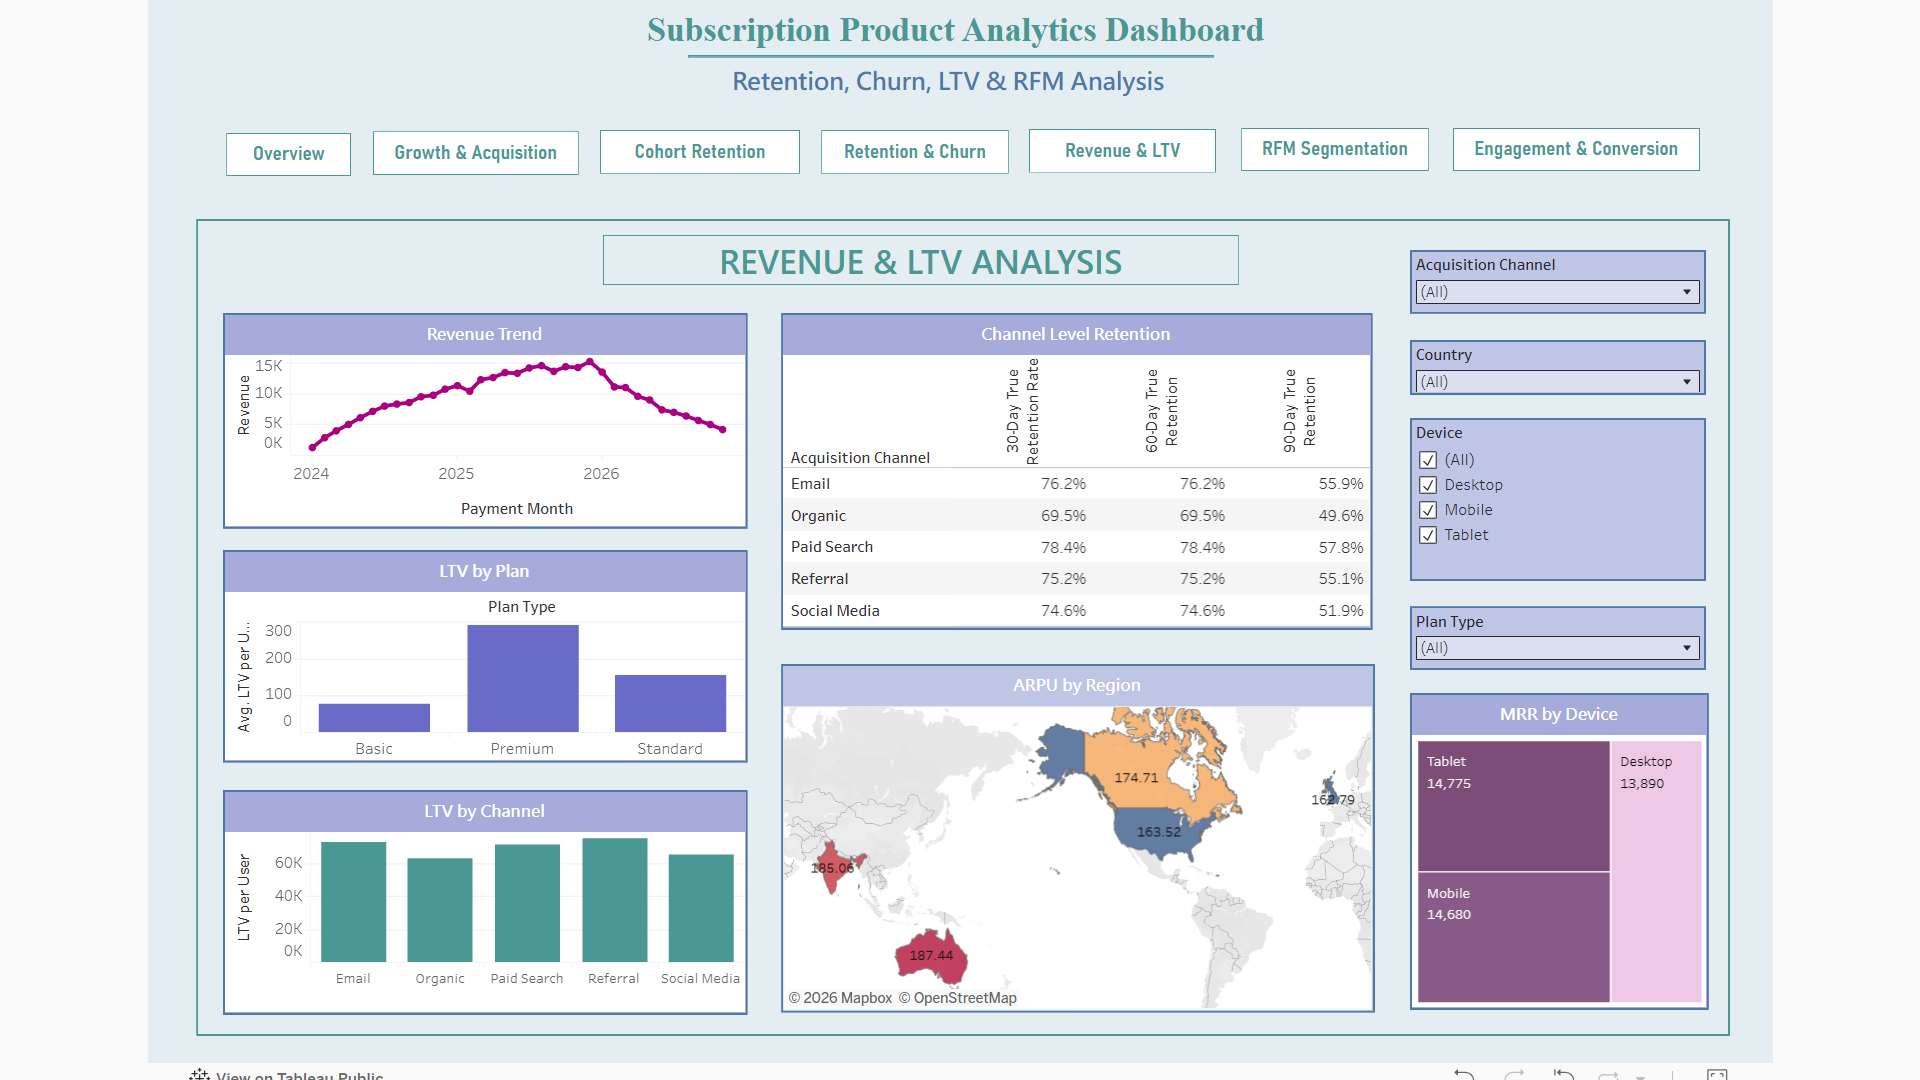

This screenshot's page, from the dashboard's own definition file:
{"tool":"tableau","page":{"name":"Revenue & LTV","canvas":[1300,850],"ordinal":6},"visuals":[{"type":"blank","box":[432,44,421,2]},{"type":"text","box":[347,50,587,28]},{"type":"blank","box":[56,99,1191,45]},{"type":"dashboard-object","box":[875,102,150,35]},{"type":"dashboard-object","box":[1044,102,198,35]},{"type":"dashboard-object","box":[705,103,150,35]},{"type":"dashboard-object","box":[362,104,160,35]},{"type":"dashboard-object","box":[539,104,150,35]},{"type":"dashboard-object","box":[180,105,165,35]},{"type":"dashboard-object","box":[63,106,100,35]},{"type":"blank","box":[39,175,1227,654]},{"type":"text","box":[364,188,509,40]},{"type":"filter","title":"LTV by Channel","param":"[federated.1vvcbkb1517lao19svhhh0a2soji].[none:Acquisition_Channel:nk]","box":[1010,200,237,51]},{"type":"worksheet","title":"Revenue Trend","mark":"Automatic","rows":["Revenue"],"cols":["Payment_Date"],"box":[60,250,420,173]},{"type":"worksheet","title":"Channel Level Retention","mark":"Automatic","rows":["Acquisition_Channel"],"box":[507,250,473,254]},{"type":"filter","title":"LTV by Channel","param":"[federated.1vvcbkb1517lao19svhhh0a2soji].[none:Country:nk]","box":[1010,272,237,44]},{"type":"filter","title":"LTV by Channel","param":"[federated.1vvcbkb1517lao19svhhh0a2soji].[none:Device:nk]","box":[1010,334,237,131]},{"type":"worksheet","title":"LTV by Plan","mark":"Automatic","rows":["Calculation_1112952098174984198"],"cols":["Plan_Type"],"box":[60,440,420,170]},{"type":"filter","title":"LTV by Channel","param":"[federated.1vvcbkb1517lao19svhhh0a2soji].[none:Plan_Type:nk]","box":[1010,485,237,51]},{"type":"worksheet","title":"ARPU by Region","mark":"Automatic","box":[507,531,475,279]},{"type":"worksheet","title":"MRR by Device","mark":"Automatic","box":[1010,554,239,254]},{"type":"worksheet","title":"LTV by Channel","mark":"Automatic","rows":["Calculation_1112952098174984198"],"cols":["Acquisition_Channel"],"box":[60,632,420,180]}]}

Visuals, with their boxes in screenshot pixels (x1, y1, x2, y2):
blank: select_region(681, 45, 1209, 48)
text: select_region(575, 53, 1310, 88)
blank: select_region(210, 114, 1703, 170)
dashboard-object: select_region(1236, 118, 1424, 162)
dashboard-object: select_region(1448, 118, 1696, 162)
dashboard-object: select_region(1023, 119, 1211, 163)
dashboard-object: select_region(594, 120, 794, 164)
dashboard-object: select_region(815, 120, 1003, 164)
dashboard-object: select_region(366, 122, 572, 165)
dashboard-object: select_region(219, 123, 344, 167)
blank: select_region(189, 209, 1726, 1029)
text: select_region(596, 226, 1234, 276)
"LTV by Channel" filter: select_region(1406, 241, 1703, 305)
"Revenue Trend" worksheet: select_region(215, 303, 741, 520)
"Channel Level Retention" worksheet: select_region(775, 303, 1368, 622)
"LTV by Channel" filter: select_region(1406, 331, 1703, 386)
"LTV by Channel" filter: select_region(1406, 409, 1703, 573)
"LTV by Plan" worksheet: select_region(215, 541, 741, 754)
"LTV by Channel" filter: select_region(1406, 598, 1703, 662)
"ARPU by Region" worksheet: select_region(775, 655, 1370, 1005)
"MRR by Device" worksheet: select_region(1406, 684, 1705, 1002)
"LTV by Channel" worksheet: select_region(215, 782, 741, 1007)
